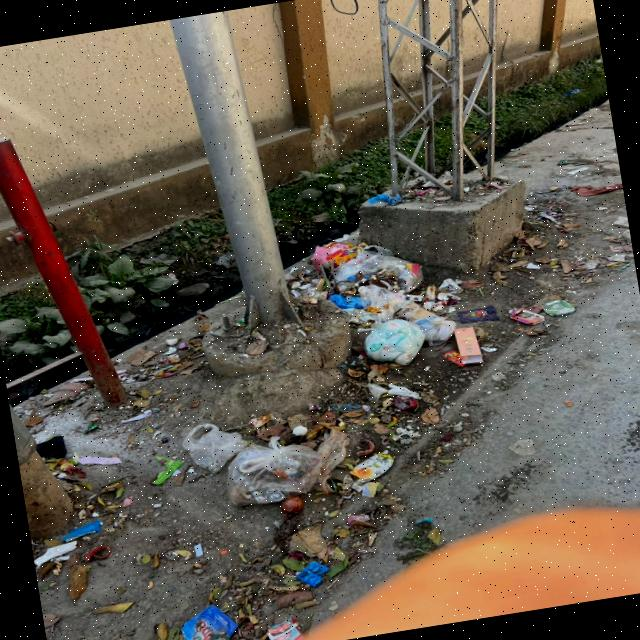garbage: (25, 221, 546, 640)
